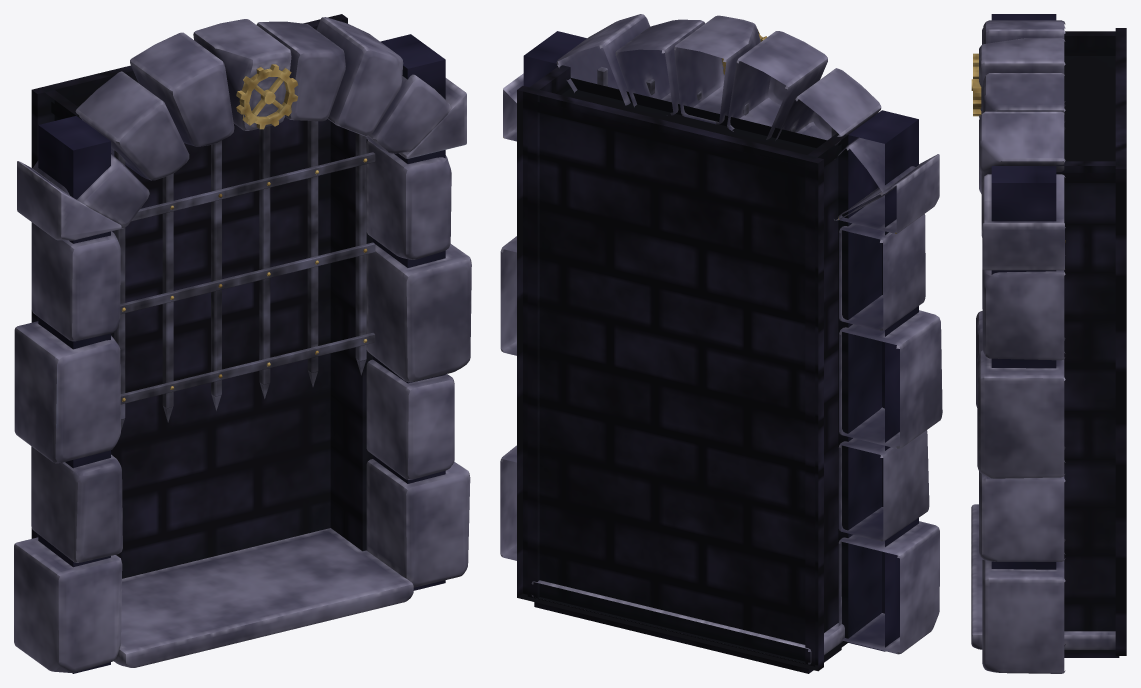
File: Promenade_Door.fbx
The picture shows the model from 3 angles, left to right: view 1: azimuth 30°, elevation 25°; view 2: azimuth 150°, elevation 25°; view 3: azimuth 270°, elevation 25°; orthographic projection. The views are drawn at different scales.
Parts seen in each view (by area): view 1: Promenade_Door; view 2: Promenade_Door; view 3: Promenade_Door.
Part boxes in pixels (x1,y1,x2,y2): Promenade_Door: (14, 14, 471, 673); Promenade_Door: (500, 14, 942, 673); Promenade_Door: (971, 14, 1126, 673).
Size of the model in its own units: 2.42 by 3.25 by 0.84.
